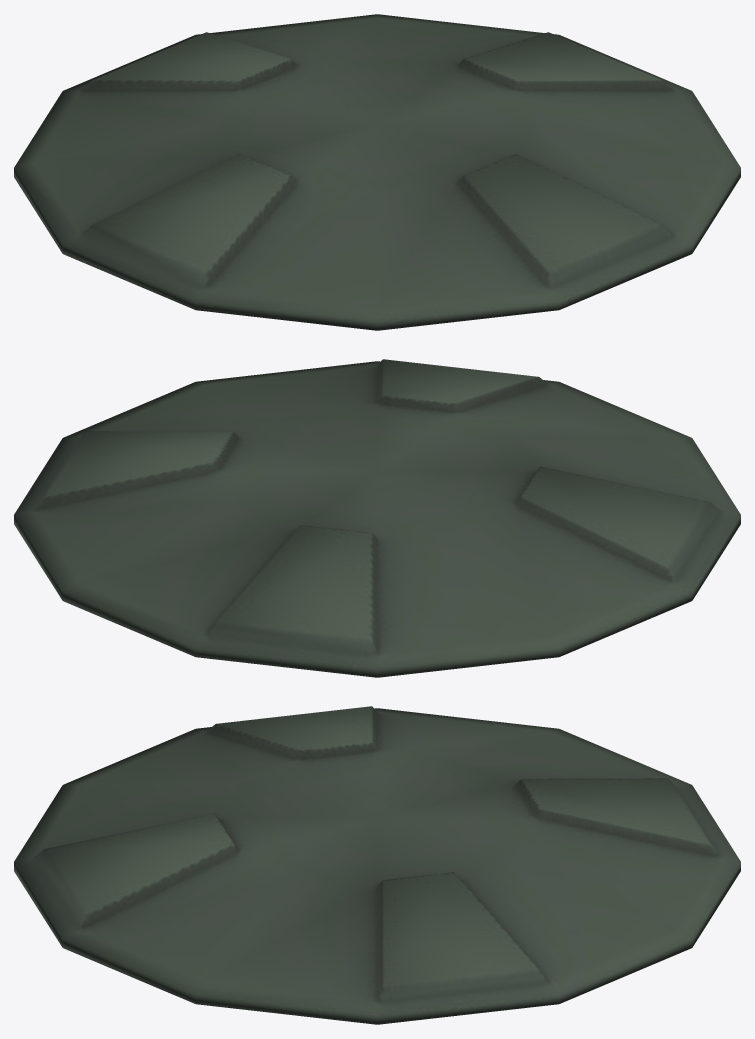
Rendered from stklib_fitchBarrel_a_cover.glb.
3 views of the same model, one above another, from view 1: azimuth 30°, elevation 25°; view 2: azimuth 150°, elevation 25°; view 3: azimuth 270°, elevation 25° (orthographic).
Parts seen in each view (by area): view 1: stklib_fitchBarrel_ao_a.jpg__; view 2: stklib_fitchBarrel_ao_a.jpg__; view 3: stklib_fitchBarrel_ao_a.jpg__.
Boxes of the visible parts, x1,y1,x2,y2 form: stklib_fitchBarrel_ao_a.jpg__: (14, 14, 740, 330); stklib_fitchBarrel_ao_a.jpg__: (14, 359, 740, 677); stklib_fitchBarrel_ao_a.jpg__: (14, 706, 740, 1024).
Bounding box in the file's own units: 1.39 × 0.1263 × 1.39.
1 material, 1 textured.
